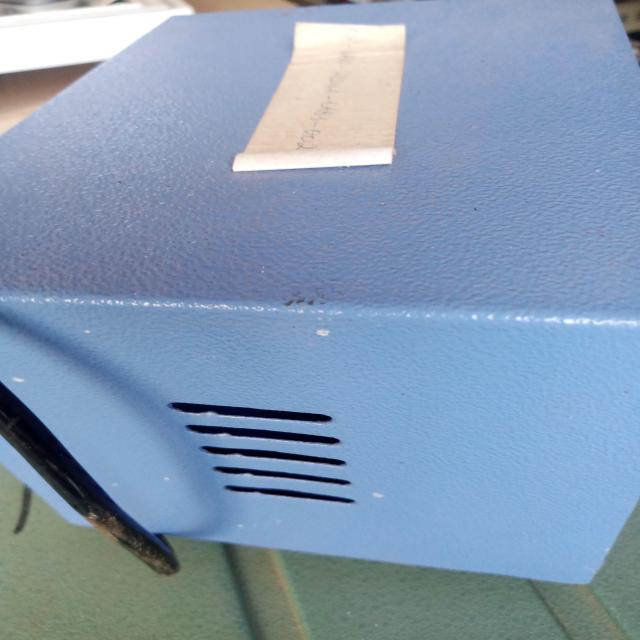AC and DC Power Supply 12 V: (6, 27, 637, 585)
